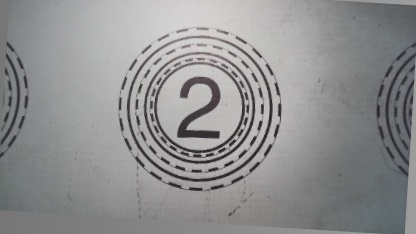2r: (109, 21, 288, 198)
